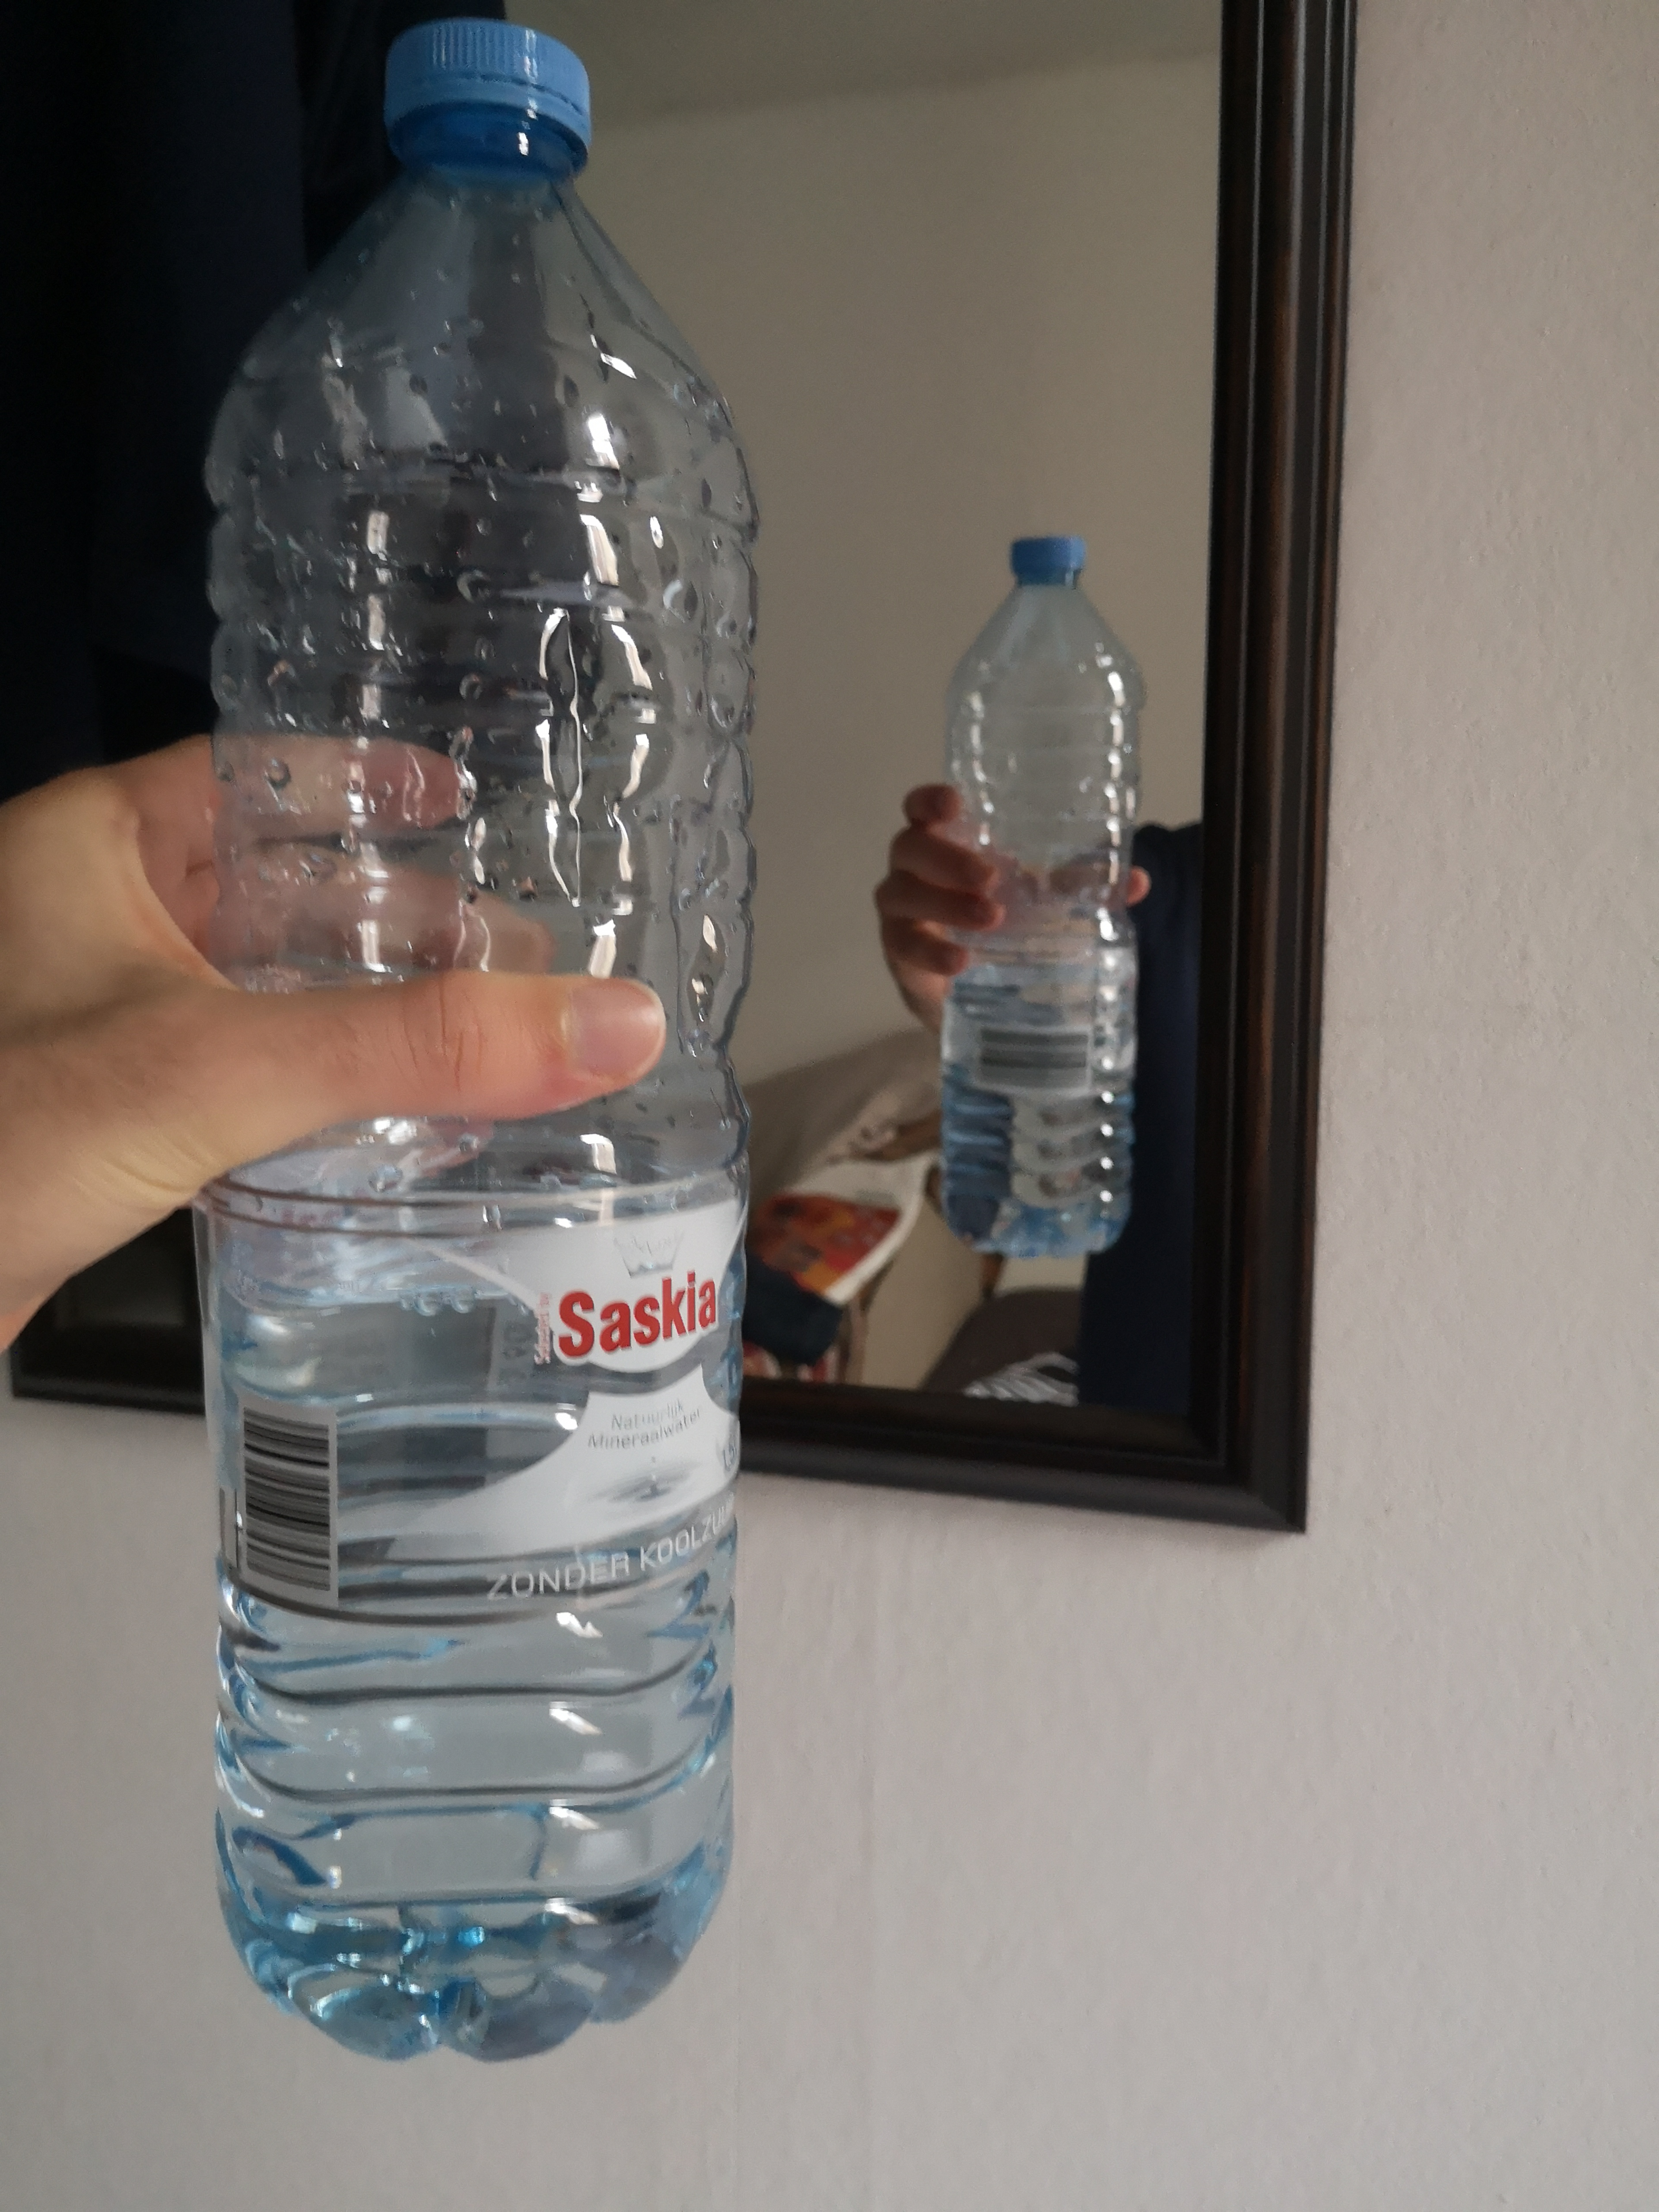plastic_bottle: (178, 0, 782, 2088), (934, 516, 1145, 1266)
